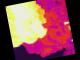Foc: (5, 0, 55, 50), (58, 11, 72, 44)
